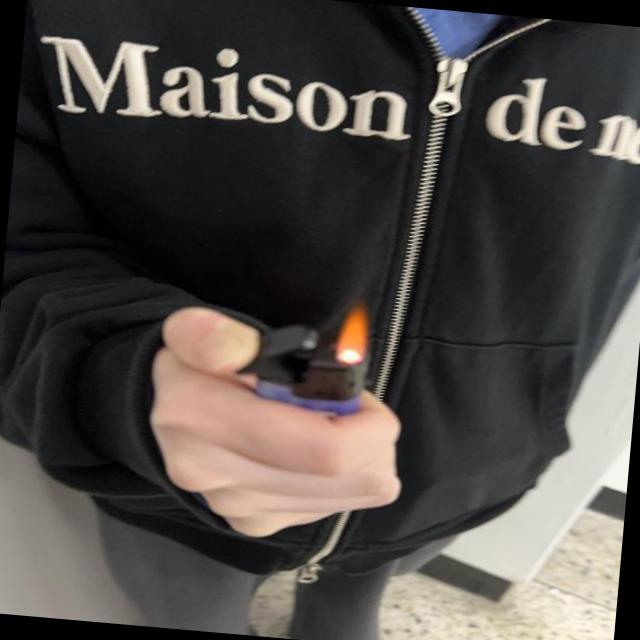Fire: (338, 298, 372, 358)
